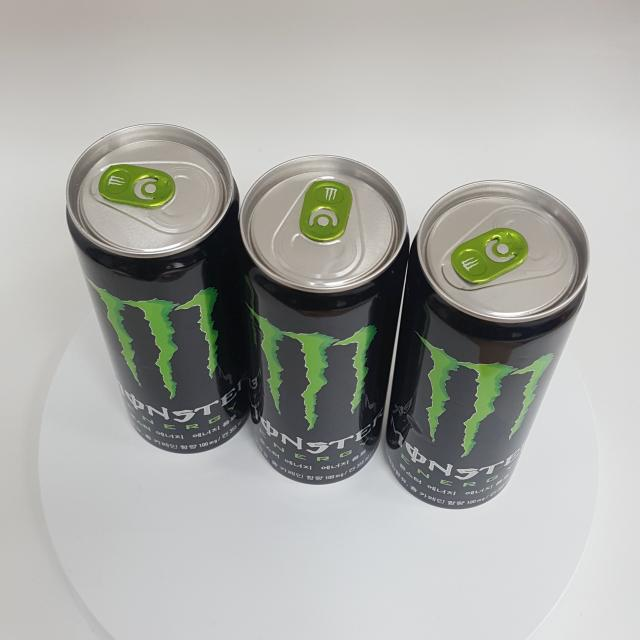--------355ML: (384, 179, 590, 509), (65, 123, 252, 454), (237, 154, 410, 485)
